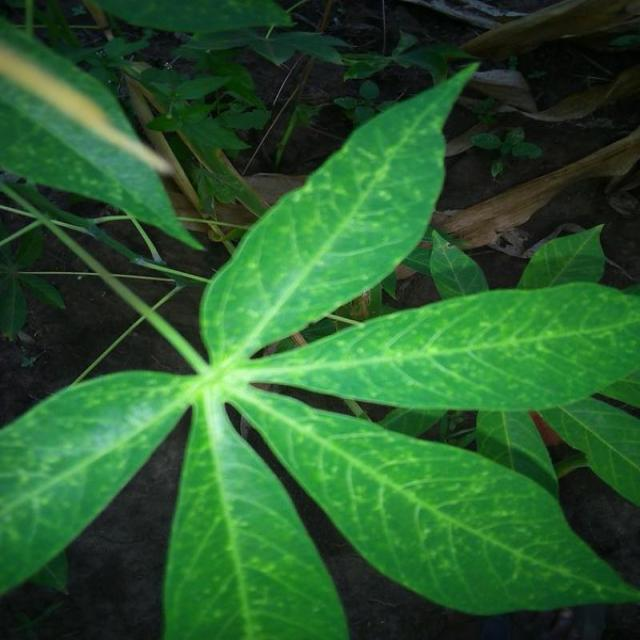cassava leaf: (2, 53, 639, 637), (198, 59, 482, 369), (2, 16, 206, 252)
